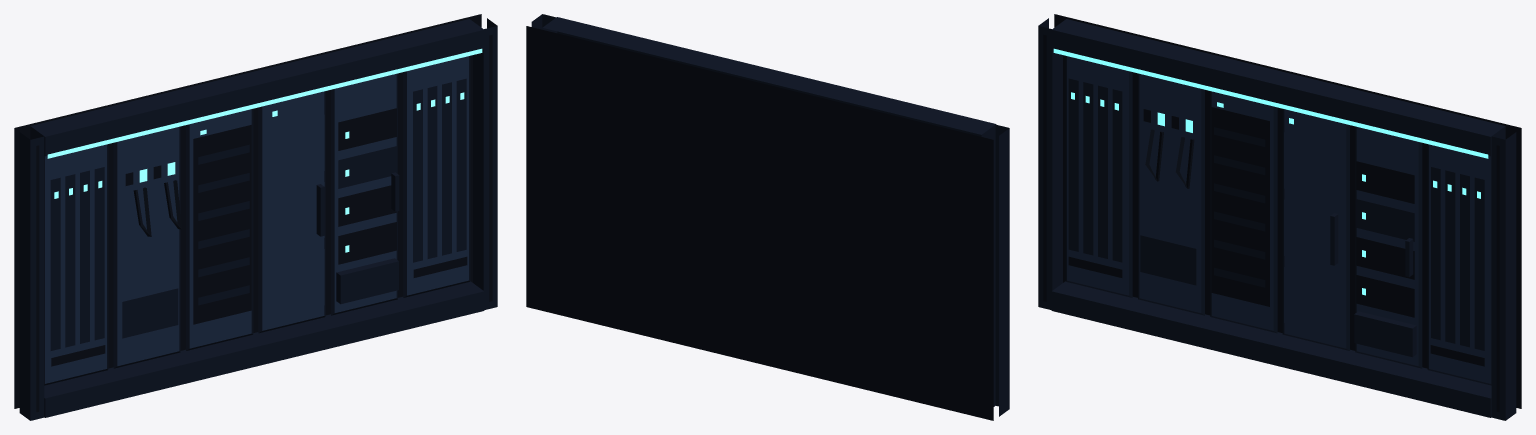
Rendered from RackFacade_V02.fbx.
3 views of the same model, side by side, from view 1: azimuth 30°, elevation 25°; view 2: azimuth 150°, elevation 25°; view 3: azimuth 330°, elevation 25° (orthographic).
Visible parts, largest first — view 1: KIT_RackFacade_V02_Mesh; view 2: KIT_RackFacade_V02_Mesh; view 3: KIT_RackFacade_V02_Mesh.
Boxes of the visible parts, x1,y1,x2,y2 form: KIT_RackFacade_V02_Mesh: [14, 14, 497, 420]; KIT_RackFacade_V02_Mesh: [526, 14, 1009, 420]; KIT_RackFacade_V02_Mesh: [1038, 14, 1521, 420].
Size of the model in its own units: 4 by 2.3 by 0.2645.
